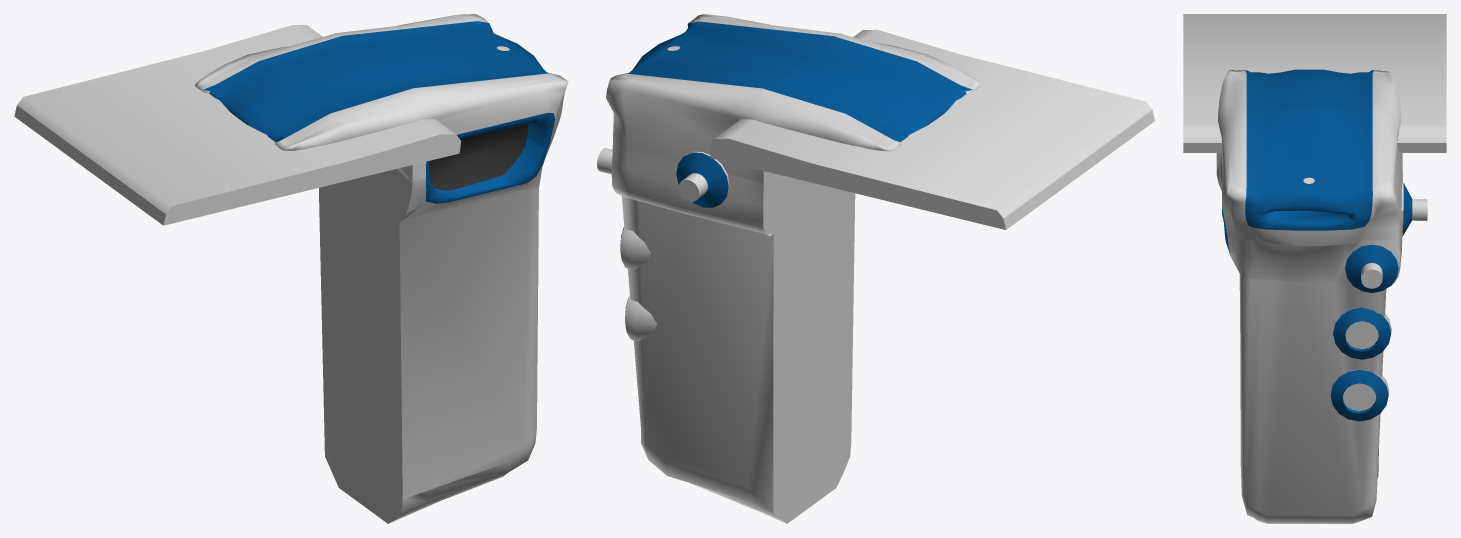
Rendered from GRI181.FBX.
3 renders of one model, left to right at view 1: azimuth 30°, elevation 25°; view 2: azimuth 150°, elevation 25°; view 3: azimuth 270°, elevation 25°, orthographic. The views are drawn at different scales.
Visible parts, largest first — view 1: GRI181_underwater, GRI181; view 2: GRI181, GRI181_underwater; view 3: GRI181, GRI181_underwater.
Part boxes in pixels (<box>): GRI181_underwater: <box>319,137,553,523</box>; GRI181: <box>14,14,568,225</box>; GRI181: <box>606,14,1154,229</box>; GRI181_underwater: <box>597,144,855,523</box>; GRI181: <box>1183,14,1446,246</box>; GRI181_underwater: <box>1216,174,1427,523</box>.
Size of the model in its own units: 124 by 118 by 72.
